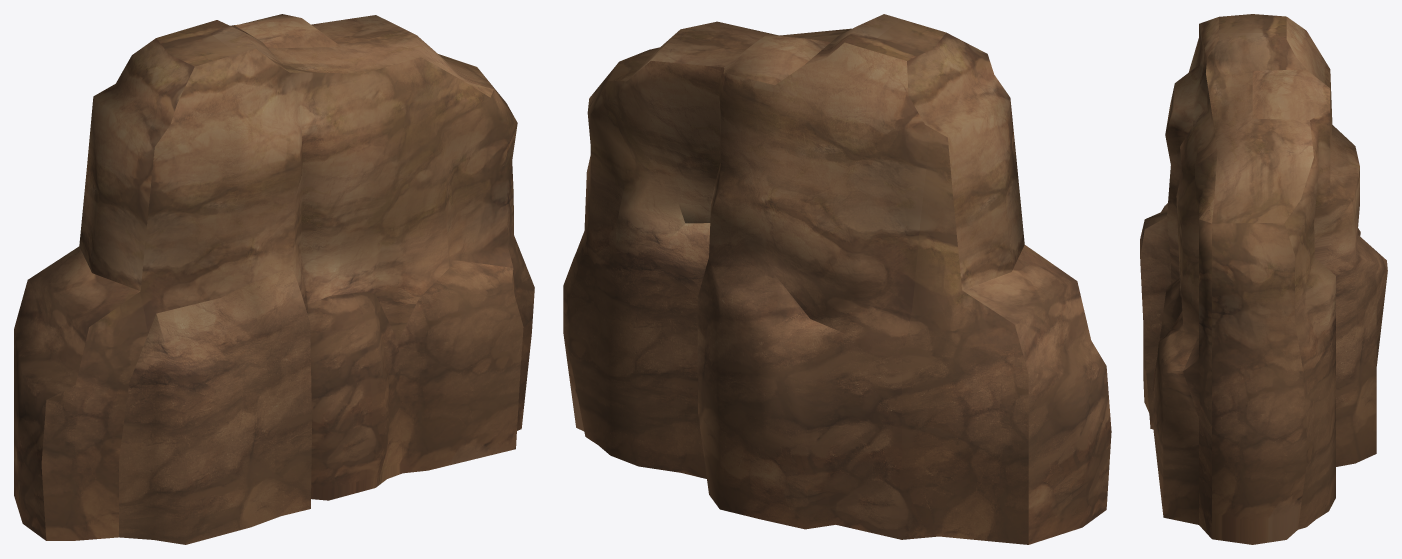
The model's file is handan_field_d_y01a.fbx.
The picture shows the model from 3 angles, left to right: view 1: azimuth 30°, elevation 25°; view 2: azimuth 150°, elevation 25°; view 3: azimuth 270°, elevation 25°; orthographic projection. The views are drawn at different scales.
Parts seen in each view (by area): view 1: handan_field_d_y01a; view 2: handan_field_d_y01a; view 3: handan_field_d_y01a.
Boxes of the visible parts, <box> form: handan_field_d_y01a: <box>14,14,534,544</box>; handan_field_d_y01a: <box>563,14,1111,544</box>; handan_field_d_y01a: <box>1140,14,1387,544</box>.
Bounding box in the file's own units: 1368 × 1142 × 662.
